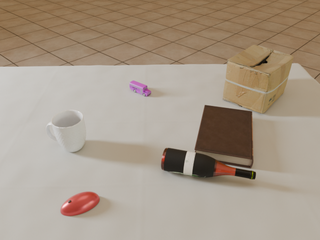book: (195, 105, 253, 168)
bottle: (161, 148, 256, 179)
box: (223, 45, 293, 114)
cup: (46, 110, 86, 152)
mouse: (61, 192, 100, 216)
toy_car: (130, 81, 151, 96)
